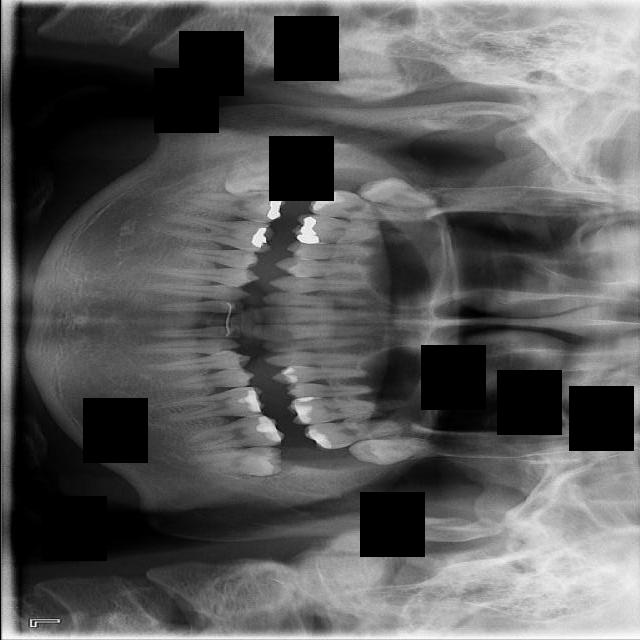3M ESPE Implant: (353, 169, 443, 216)
52: (250, 412, 288, 446), (235, 385, 268, 417), (302, 423, 335, 452), (307, 187, 344, 212), (291, 215, 319, 246), (265, 194, 283, 222), (291, 404, 313, 425), (280, 365, 300, 386), (249, 227, 267, 248), (294, 396, 314, 403)
73: (50, 582, 70, 590)
BioHorizons Implant: (301, 418, 414, 451)
BioLife Implant: (346, 435, 438, 468)
Biomet 3i Implant: (188, 442, 282, 478)
Blue Sky Bio Implant: (184, 412, 284, 452)
Caries: (307, 187, 429, 224)
Implant: (180, 191, 285, 223)
Keystone Dental Implant: (219, 152, 292, 202)
